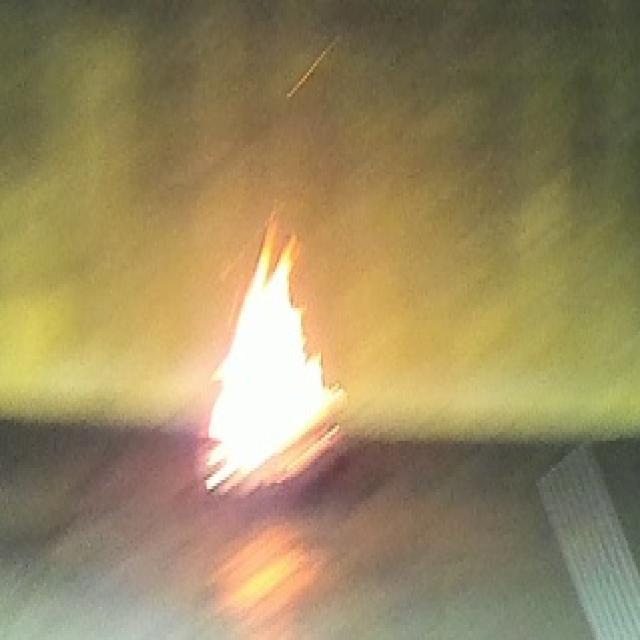Fire: (204, 211, 347, 499)
